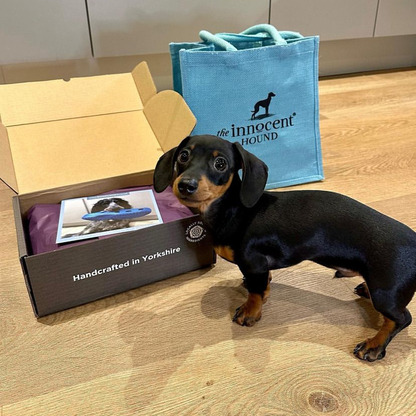dachshund: (149, 135, 399, 363)
